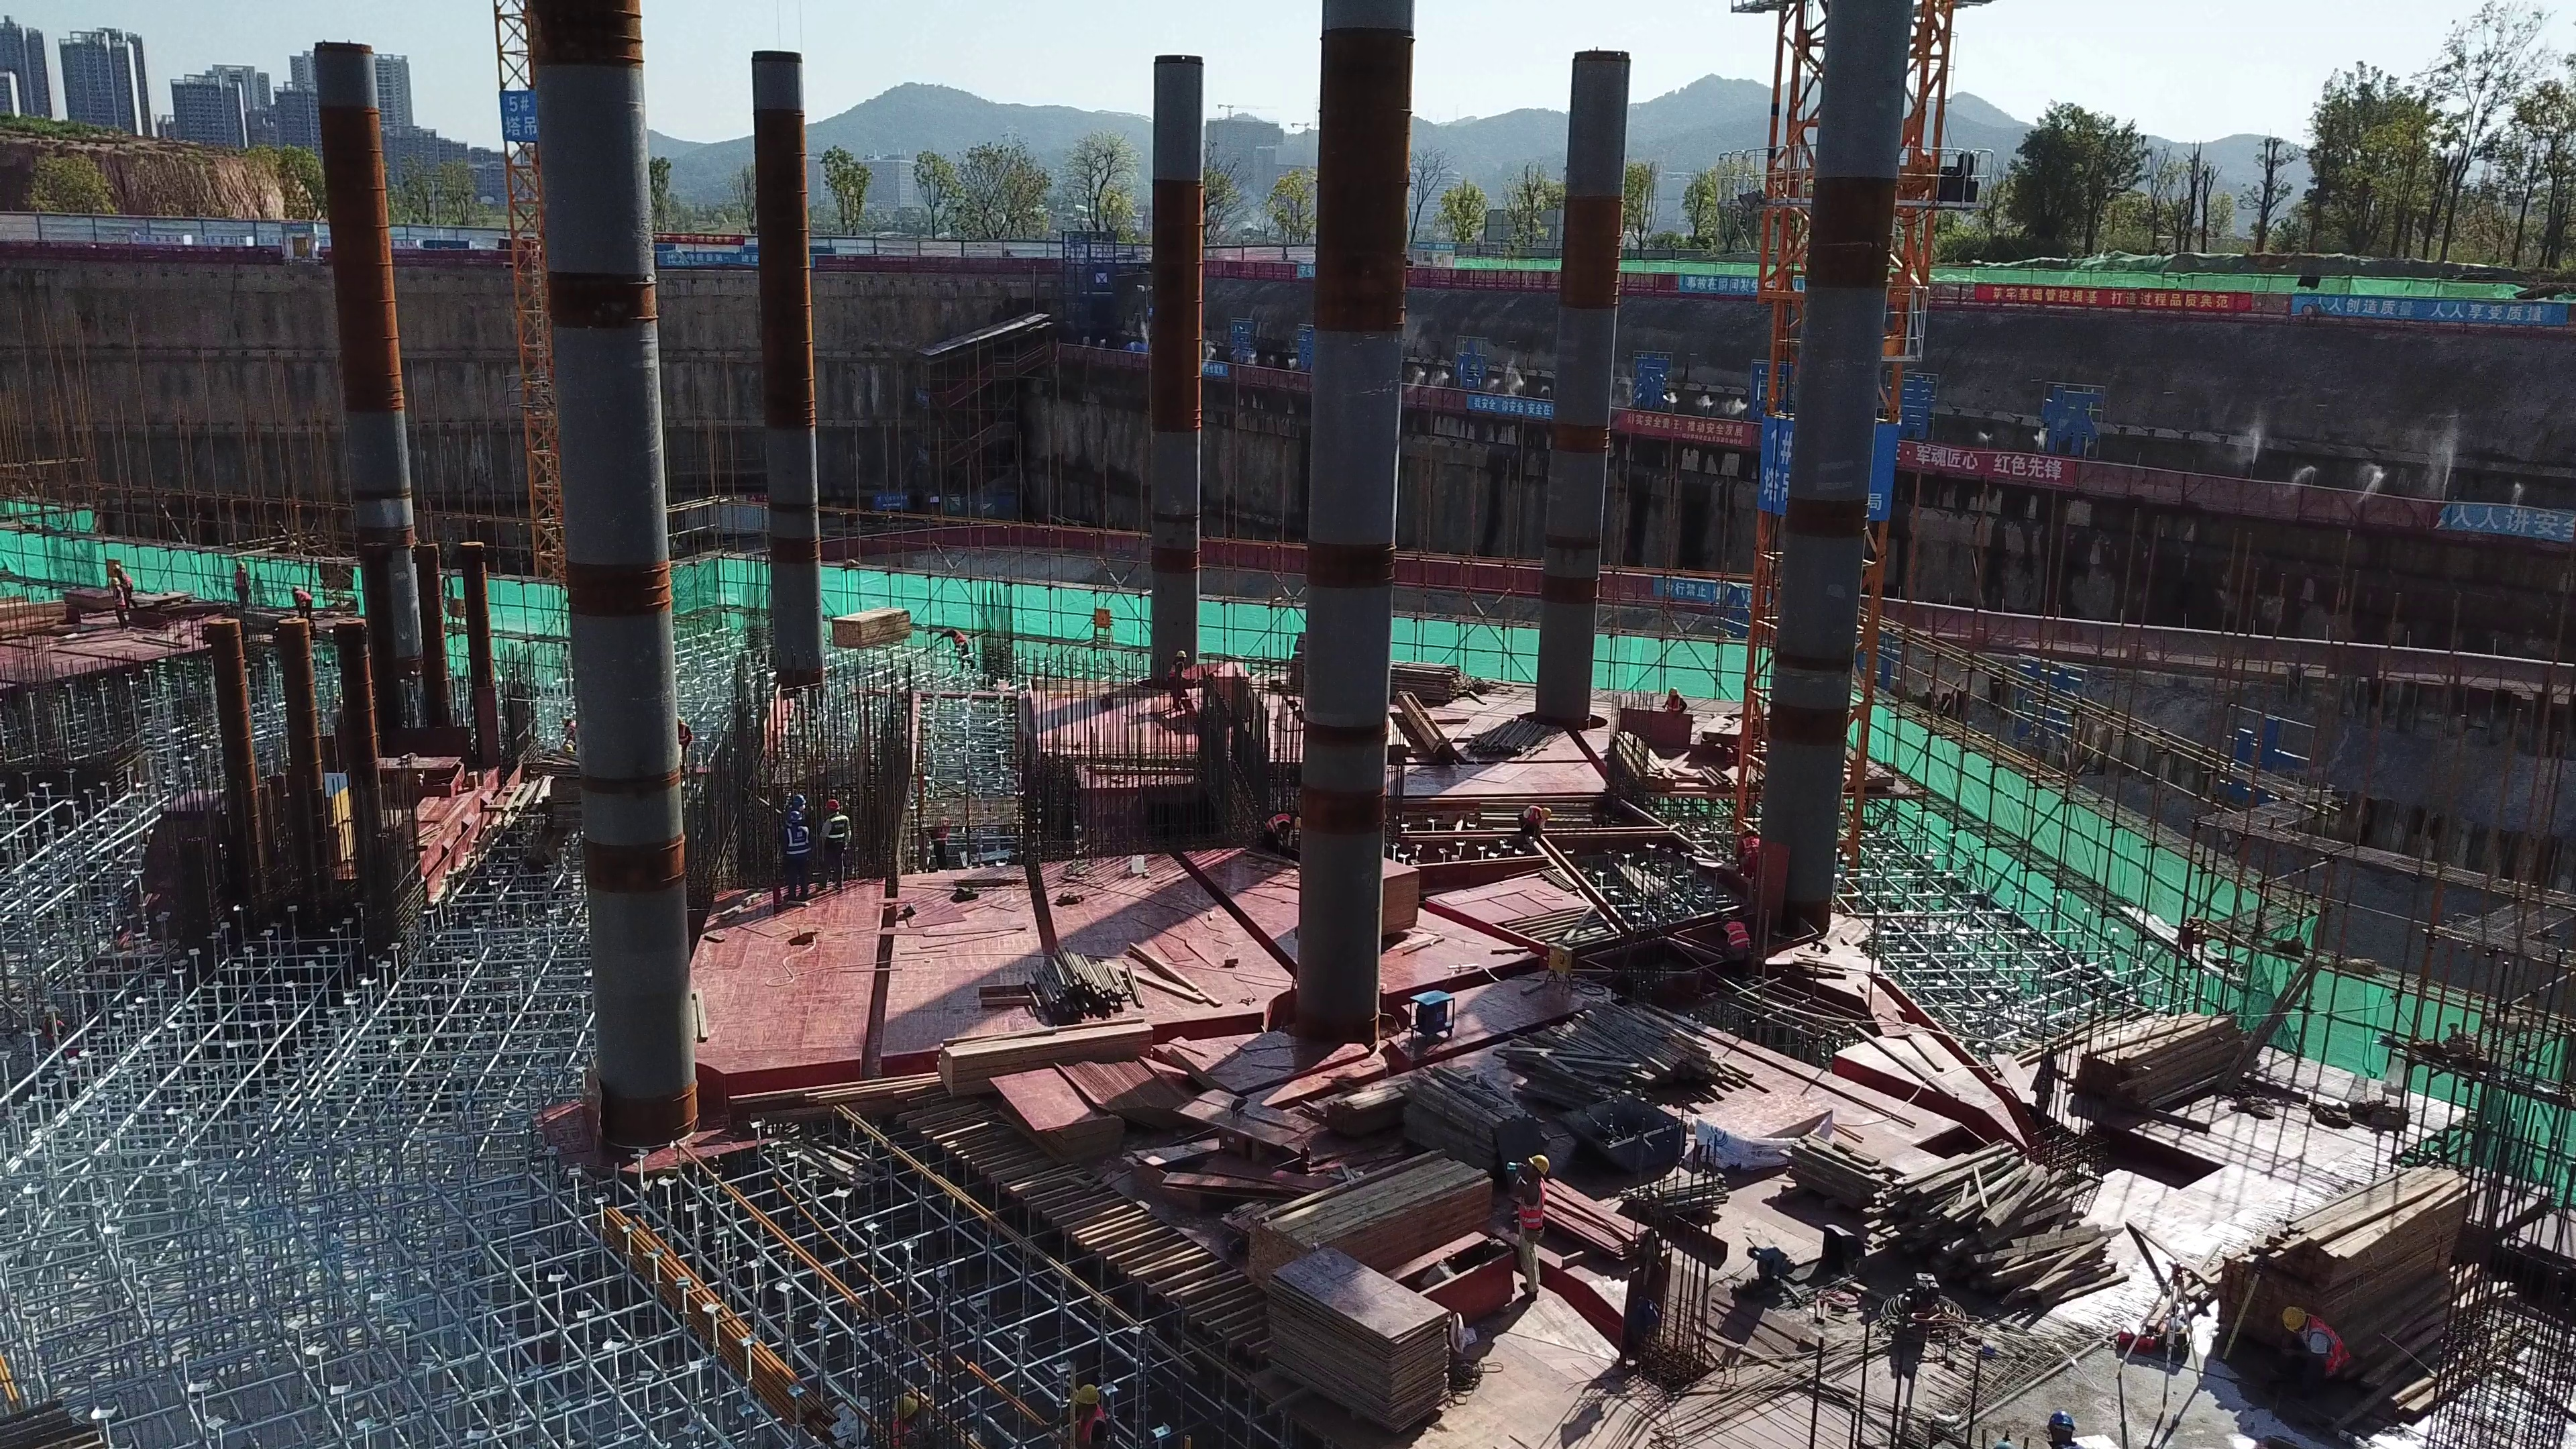helmet: (2306, 1313, 2353, 1377), (1516, 1179, 1544, 1230), (2040, 1409, 2078, 1432), (2279, 1305, 2304, 1334), (1526, 1152, 1551, 1180), (1662, 683, 1683, 697), (1169, 648, 1191, 659), (1717, 910, 1735, 923), (1543, 800, 1553, 820), (828, 798, 842, 813), (792, 793, 808, 806), (787, 810, 804, 823), (1291, 814, 1303, 830), (235, 561, 247, 570)
person: (1498, 1145, 1569, 1305), (1713, 906, 1770, 977), (776, 809, 818, 902), (1507, 796, 1569, 854), (819, 796, 859, 889), (1258, 799, 1305, 852), (924, 800, 959, 870), (1165, 640, 1200, 712), (292, 585, 329, 637), (103, 576, 131, 643), (936, 626, 979, 668), (790, 792, 818, 845), (1655, 684, 1697, 718), (233, 559, 257, 619), (119, 559, 144, 608)
vest: (1725, 923, 1754, 951), (1262, 810, 1289, 836), (785, 827, 810, 855), (828, 817, 850, 842), (1520, 808, 1542, 826), (1664, 698, 1684, 711), (234, 573, 250, 589), (297, 591, 313, 603)
